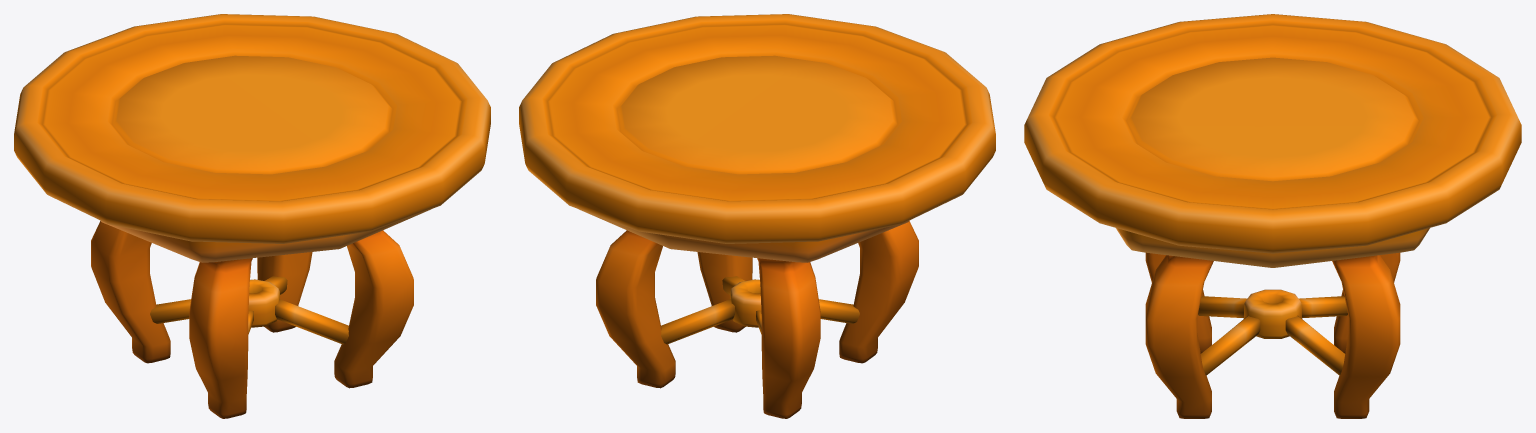
Rendered from Antique_Table_M.fbx.
3 renders of one model, left to right at view 1: azimuth 30°, elevation 25°; view 2: azimuth 150°, elevation 25°; view 3: azimuth 270°, elevation 25°, orthographic. The views are drawn at different scales.
Parts seen in each view (by area): view 1: AntiqueTable_M; view 2: AntiqueTable_M; view 3: AntiqueTable_M.
Part boxes in pixels (box(x1,y1,x2,y2)): AntiqueTable_M: box(14, 14, 490, 418); AntiqueTable_M: box(519, 14, 995, 418); AntiqueTable_M: box(1024, 14, 1521, 418).
Size of the model in its own units: 197 by 118 by 197.
